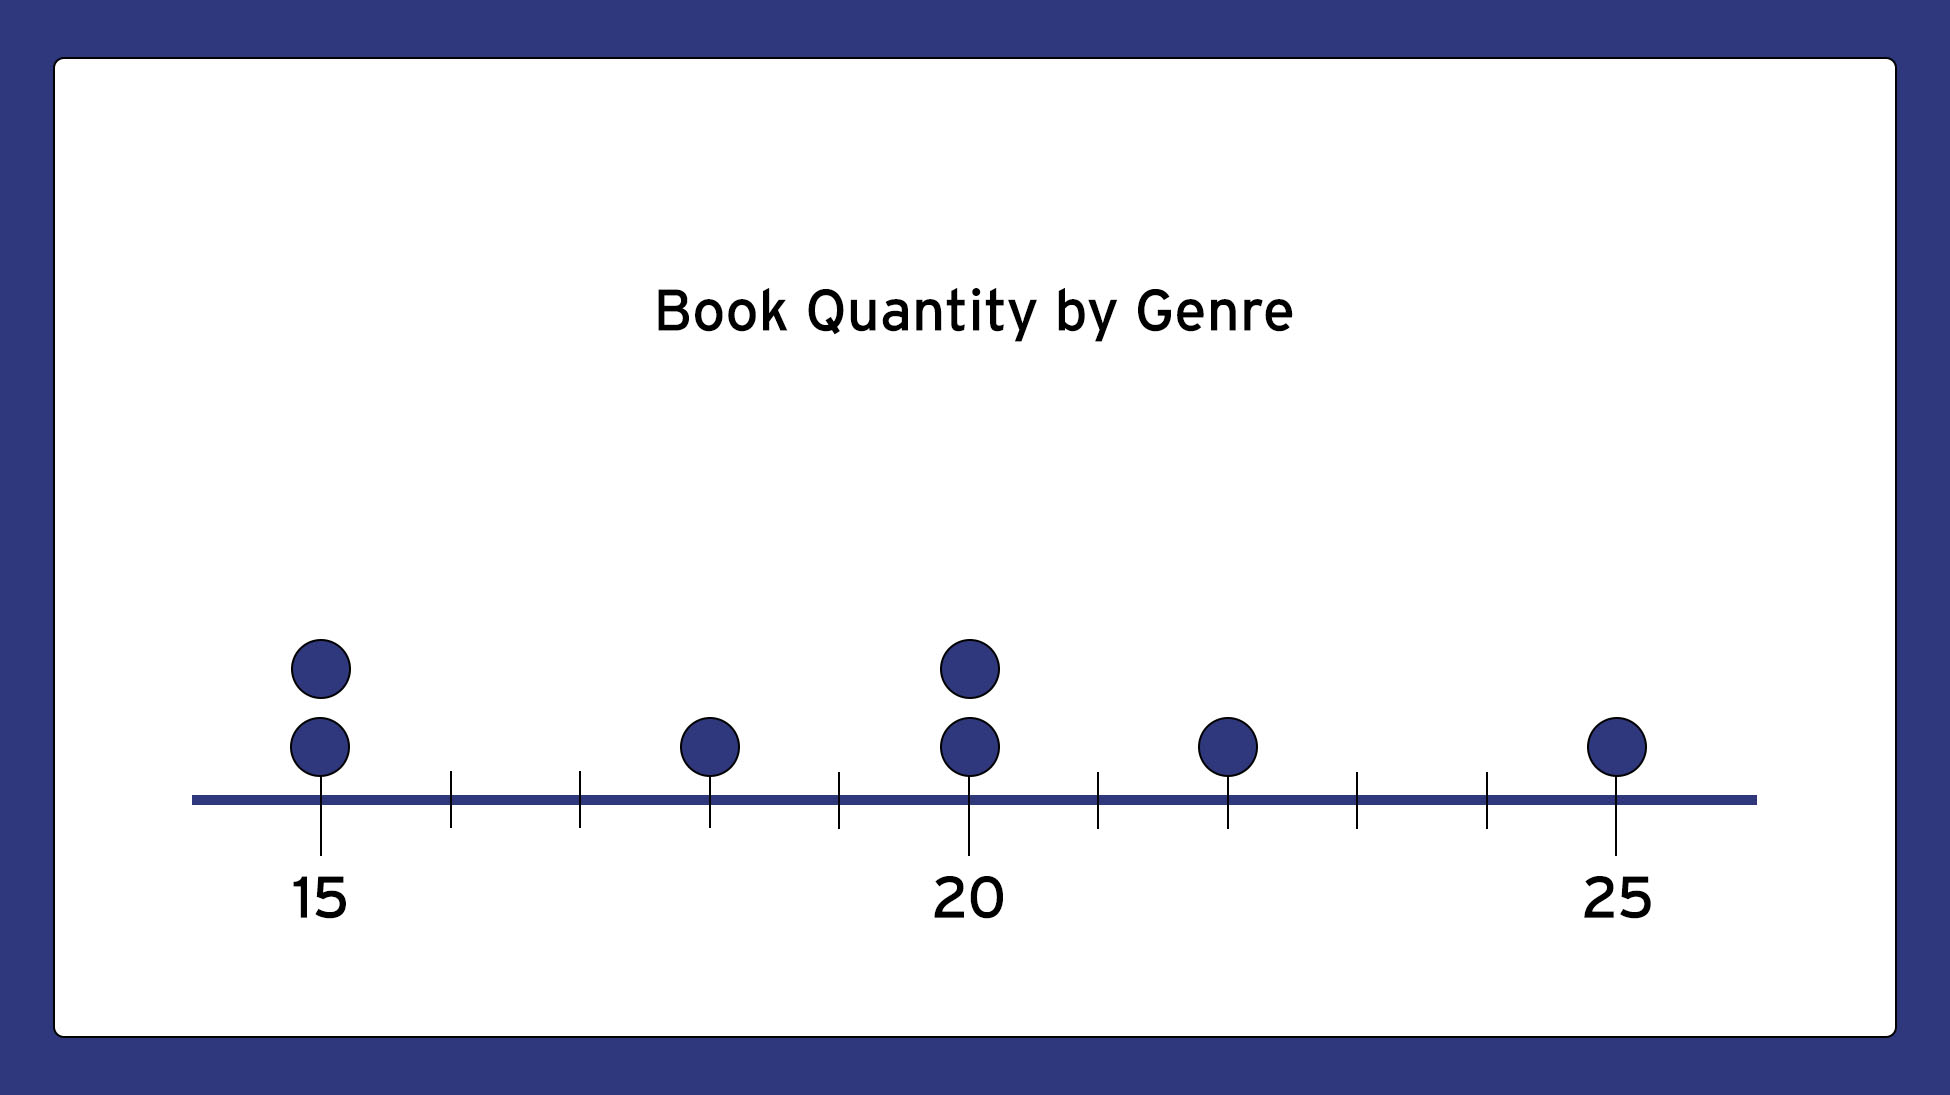

Layout of this report page (visuals, bound fields, positions):
{"tool":"powerbi","page":{"name":"Page 1","canvas":[1280,720],"ordinal":0},"visuals":[{"type":"scriptVisual","fields":{"Values":["housing.total_bedrooms","housing.total_rooms"]},"box":[9.4,0,1072.3,719.3],"z":0}]}

Visuals, with their boxes in screenshot pixels (x1, y1, x2, y2), scaled from the page's 1280x720 canvas onto the 1950x1095 screenshot:
scriptVisual - housing.total_bedrooms x housing.total_rooms: box(14, 0, 1648, 1094)
